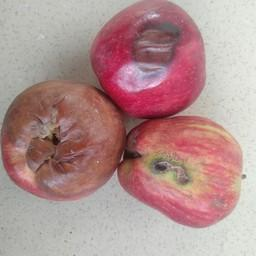Bad_apple: (0, 69, 118, 205), (124, 115, 249, 230), (88, 0, 208, 115)
